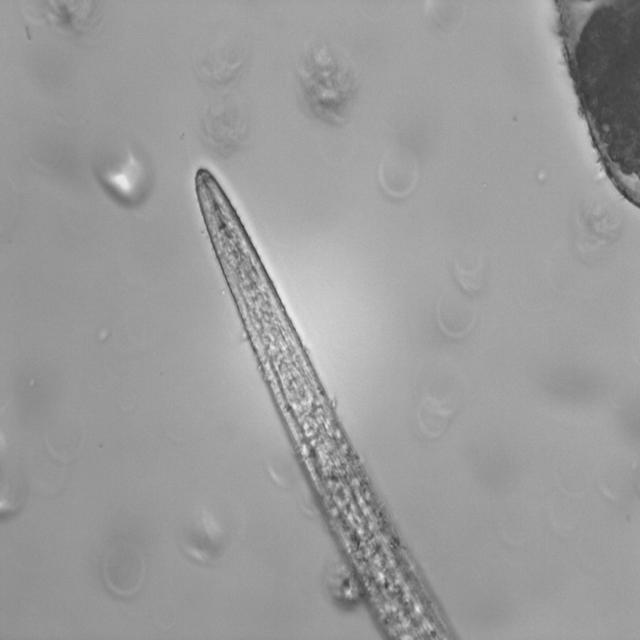Meloidogyne: (189, 154, 452, 640)
